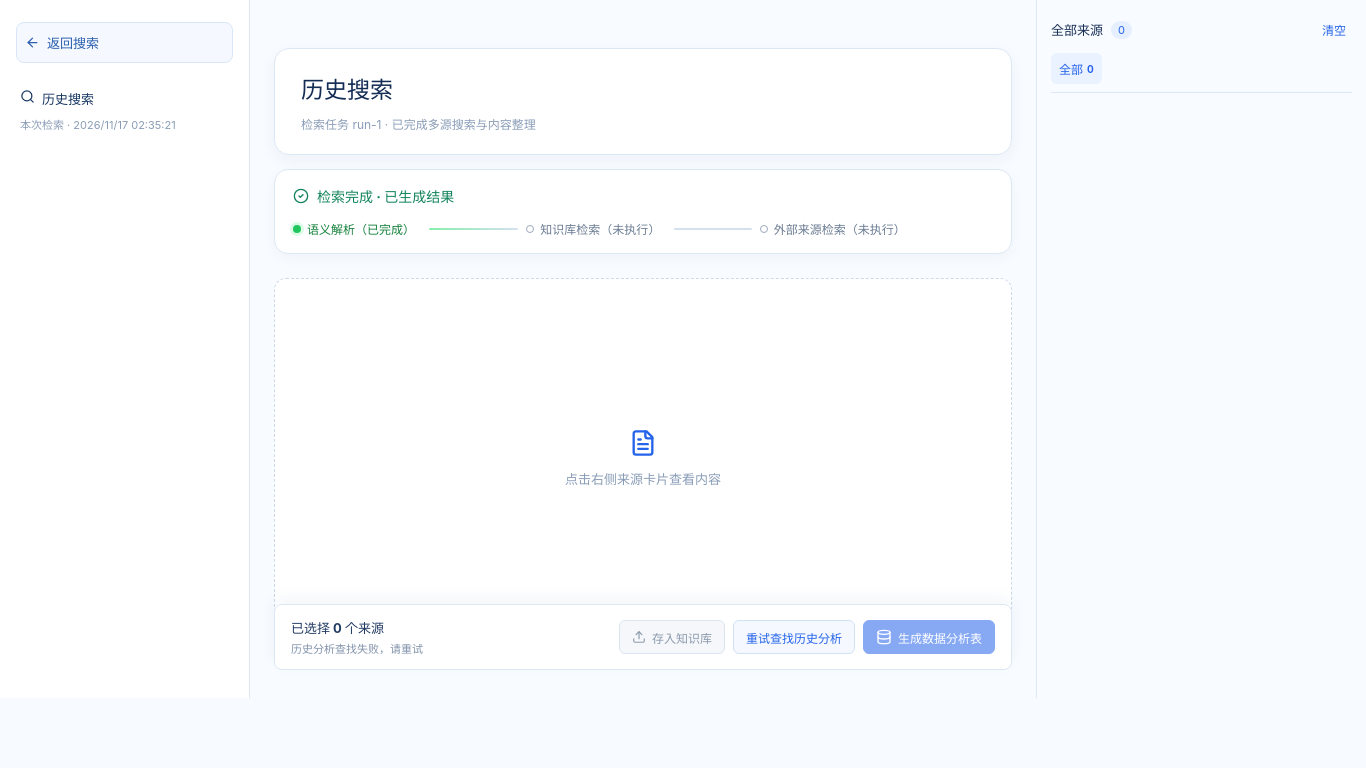
Scenario: 查找失败时提供重试，并恢复查看入口
The image size is (1366, 768).
Click the button "重试查找历史分析".
click(794, 637)  # box [733,620,855,654]
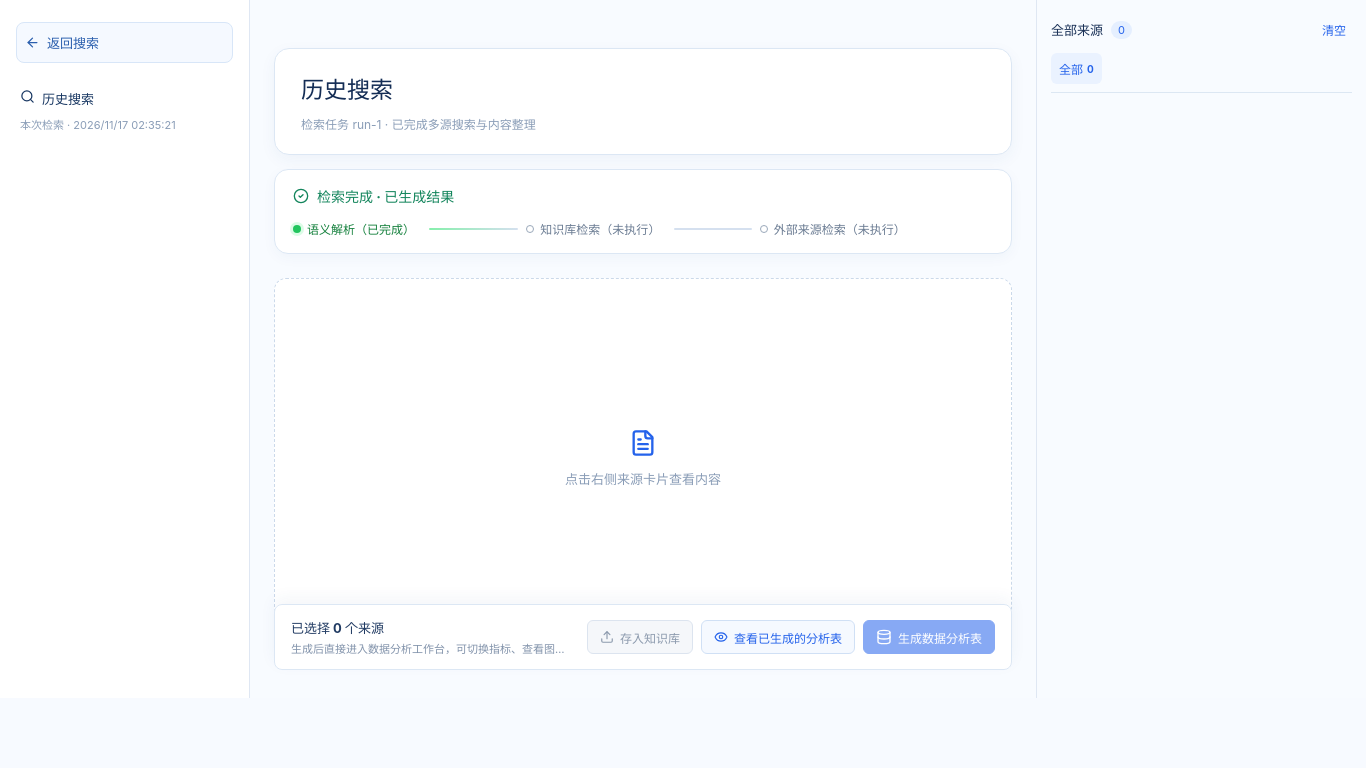
Expected: the button "查看已生成的分析表" is shown, [701,620,855,654]
